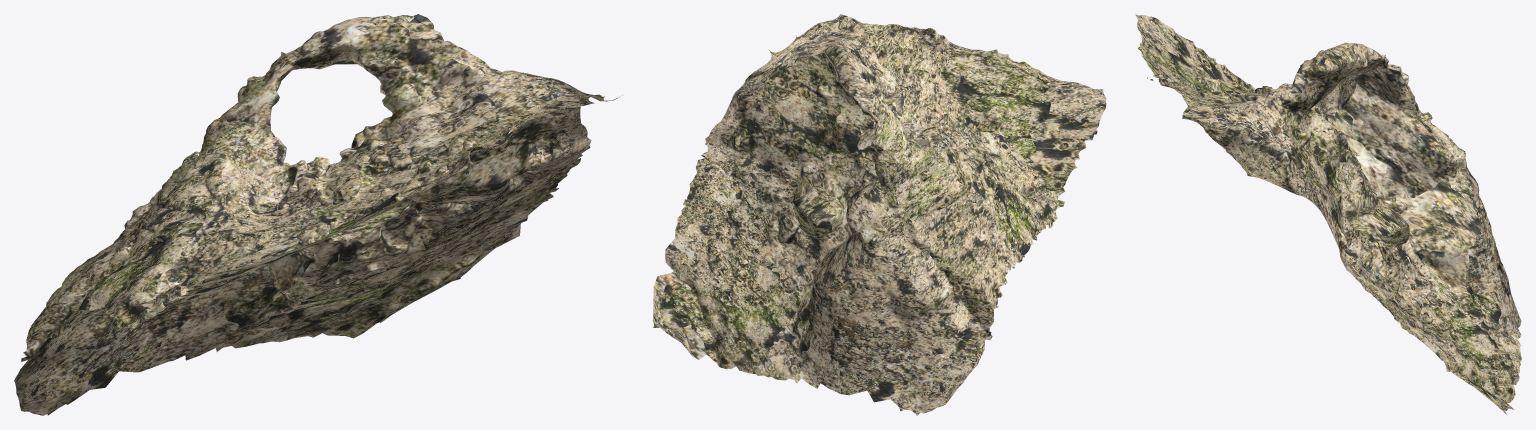
Rendered from cozyCoveTurtleSculpt.fbx.
3 views of the same model, side by side, from view 1: azimuth 30°, elevation 25°; view 2: azimuth 150°, elevation 25°; view 3: azimuth 270°, elevation 25° (orthographic). The views are drawn at different scales.
Parts seen in each view (by area): view 1: CozyCove_arch; view 2: CozyCove_arch; view 3: CozyCove_arch.
Part boxes in pixels (x1,y1,x2,y2): CozyCove_arch: [14, 14, 622, 415]; CozyCove_arch: [653, 14, 1106, 415]; CozyCove_arch: [1135, 14, 1521, 414].
Bounding box in the file's own units: 746 × 599 × 643.
Materials: 1 (1 with a texture image).
